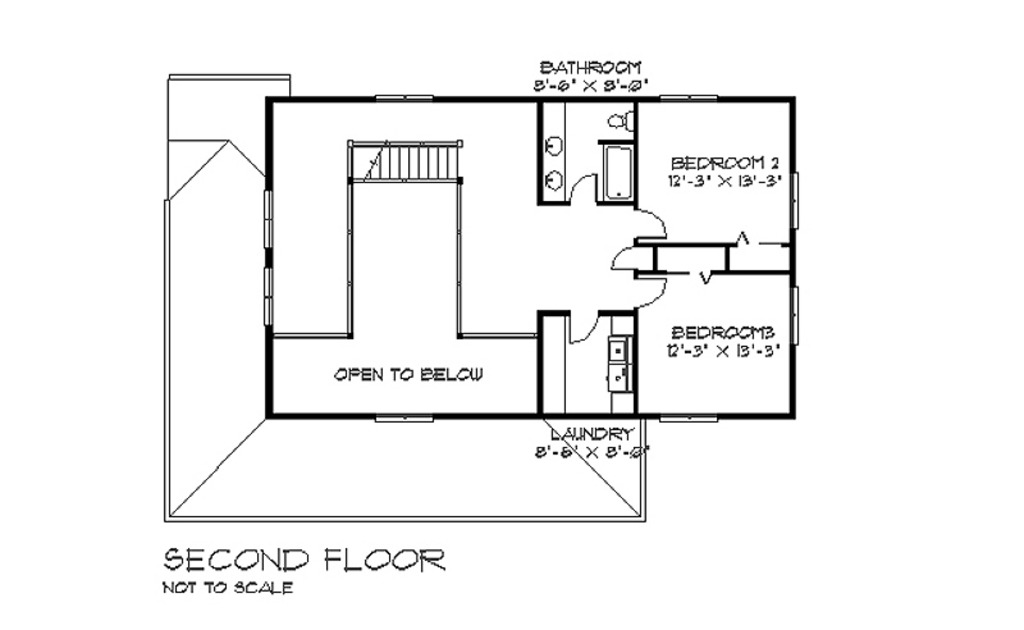door: (564, 311, 602, 350), (633, 277, 667, 310), (630, 207, 664, 239), (567, 169, 598, 204), (603, 246, 644, 272)
large_sink: (598, 104, 633, 141)
small_sink: (541, 125, 564, 195)
stairs: (351, 140, 462, 181)
tub: (601, 143, 637, 204)
window: (261, 189, 275, 248), (262, 269, 275, 324), (376, 93, 431, 99), (664, 95, 715, 98)
